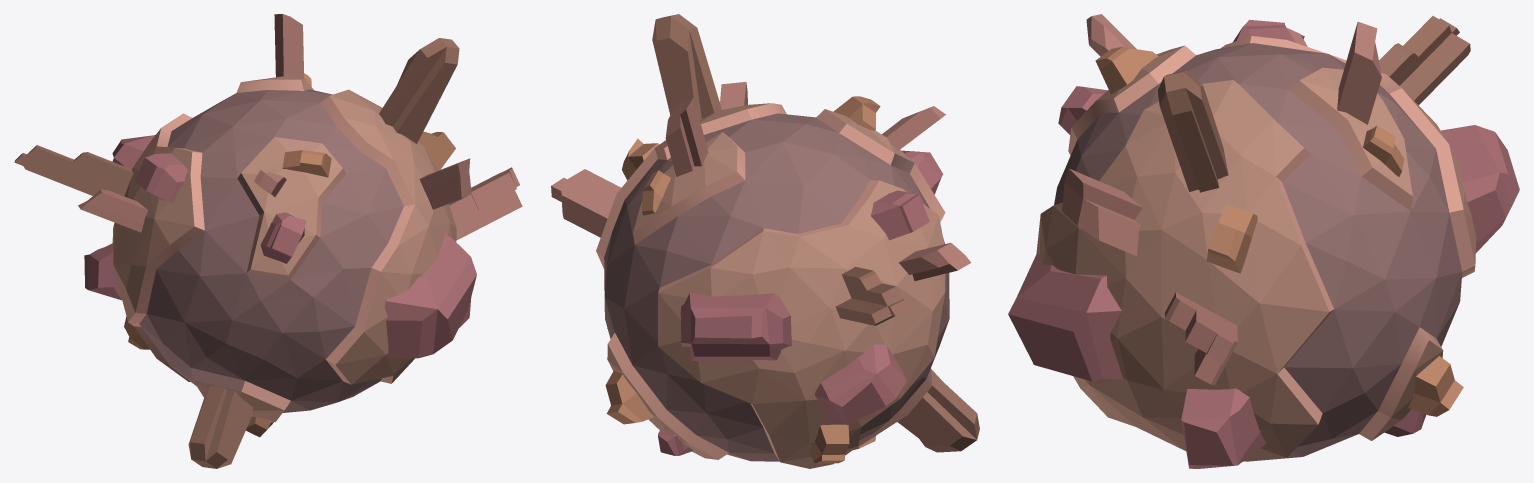
File: Planete_Rock_-_Finale.fbx
3 views of the same model, side by side, from view 1: azimuth 30°, elevation 25°; view 2: azimuth 150°, elevation 25°; view 3: azimuth 270°, elevation 25° (orthographic). The views are drawn at different scales.
Visible parts, largest first — view 1: pasted__pasted__pCube3; view 2: pasted__pasted__pCube3; view 3: pasted__pasted__pCube3.
Part boxes in pixels (x1,y1,x2,y2): pasted__pasted__pCube3: (14,14,522,468); pasted__pasted__pCube3: (551,14,979,468); pasted__pasted__pCube3: (1008,14,1519,468).
Bounding box in the file's own units: 29.6 × 24.12 × 24.29.
